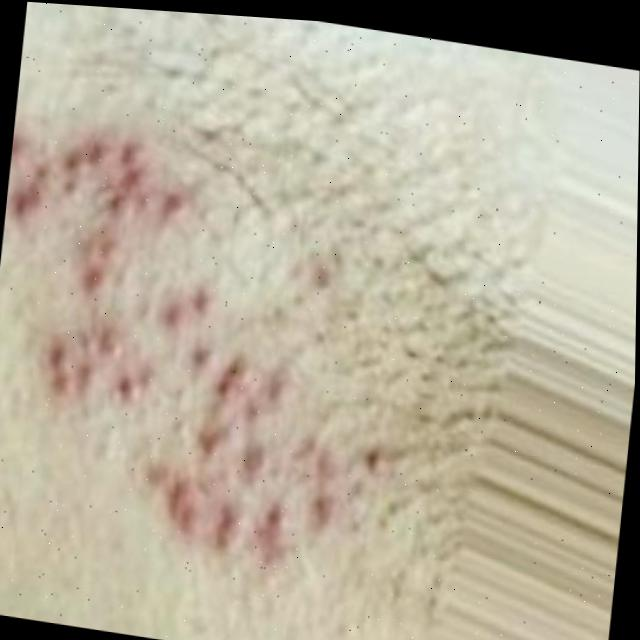Shingles: (0, 124, 381, 573)
